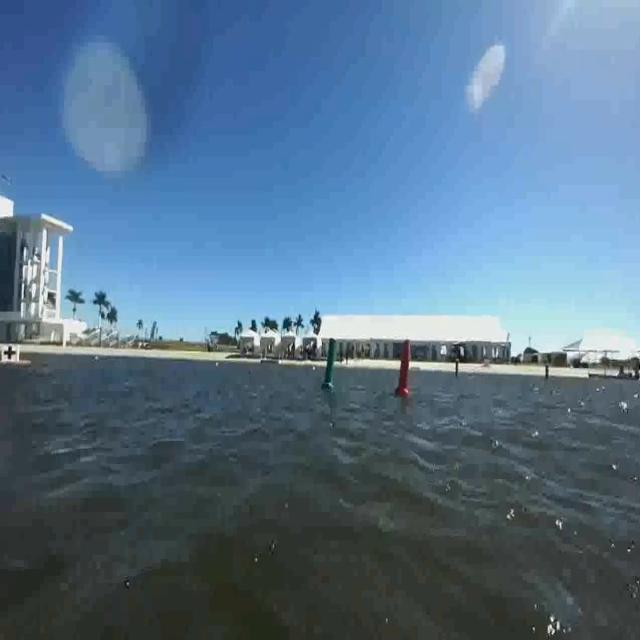green-column-buoy: (322, 338, 339, 392)
red-column-buoy: (394, 336, 413, 396)
